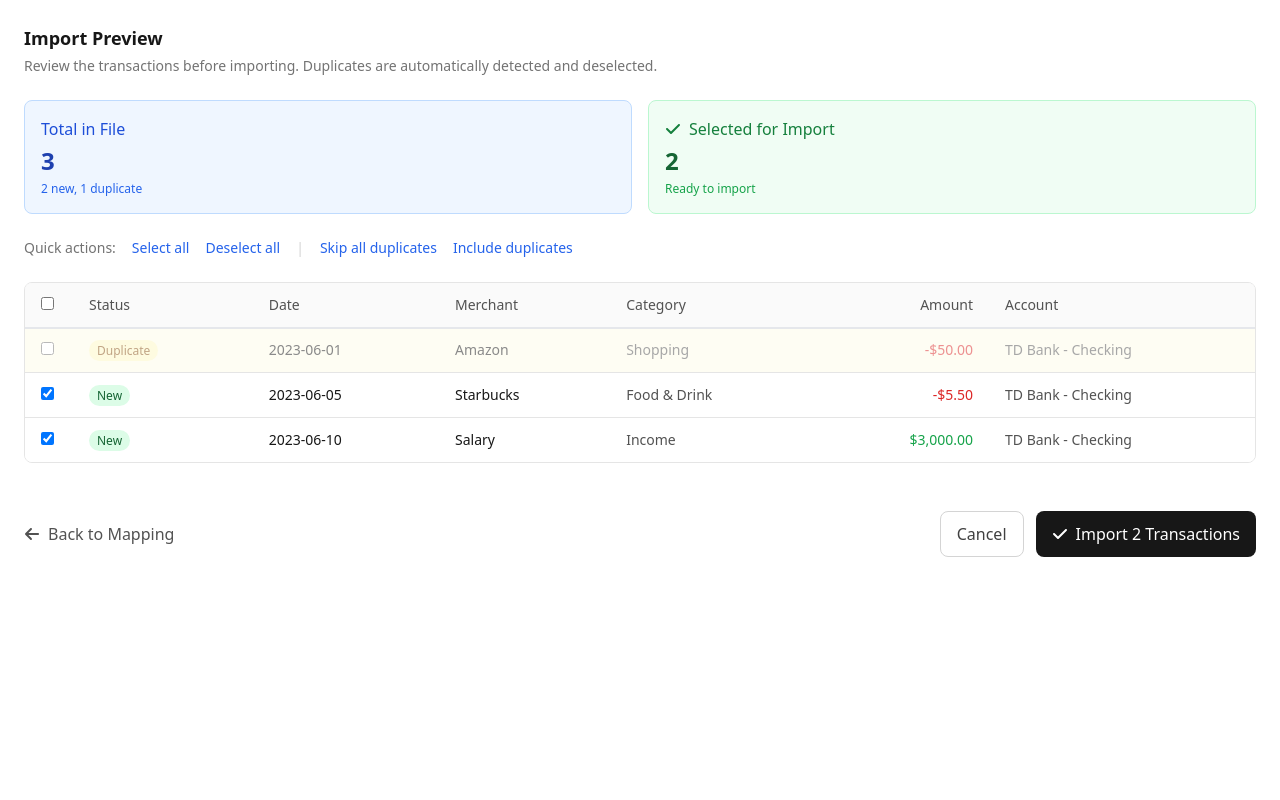
ImportPreviewStep › Duplicate Detection › shows warning when duplicates are selected
Click the button "Include duplicates": click(513, 248) [453, 238, 573, 258]
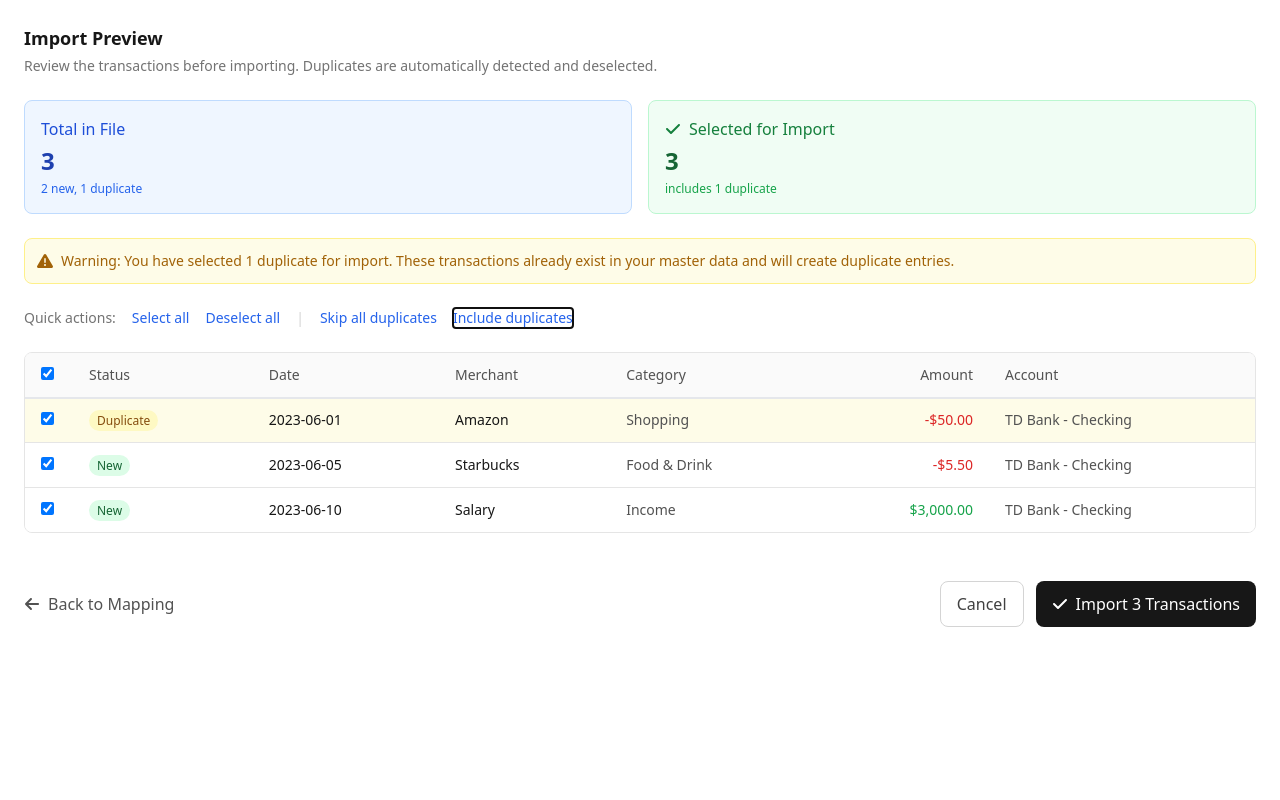
Now the text "Warning:" is shown, box [61, 251, 121, 270]
Now the button "Import 3 Transactions" is shown, box [1036, 581, 1256, 627]
